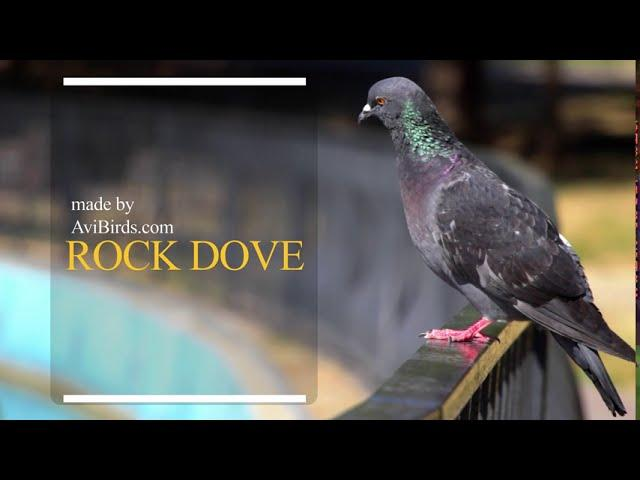Flying Rat: (357, 76, 620, 365)
